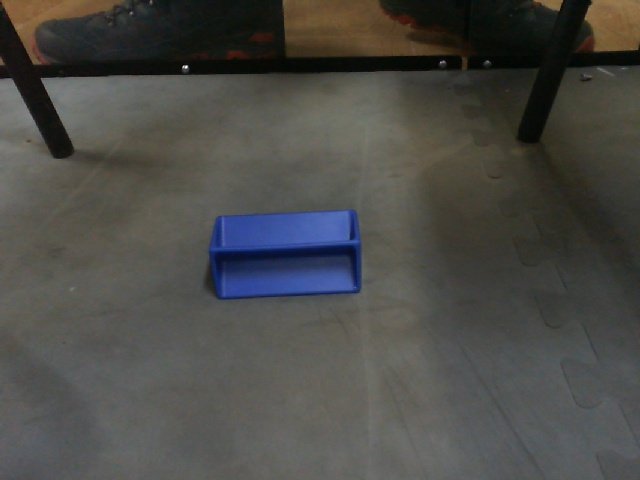BlueSample: (206, 205, 363, 302)
